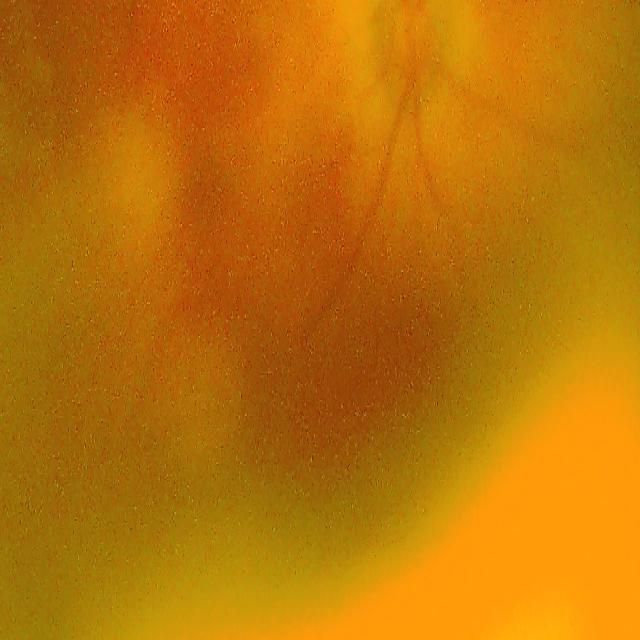optic-nerve: (361, 0, 467, 142)
